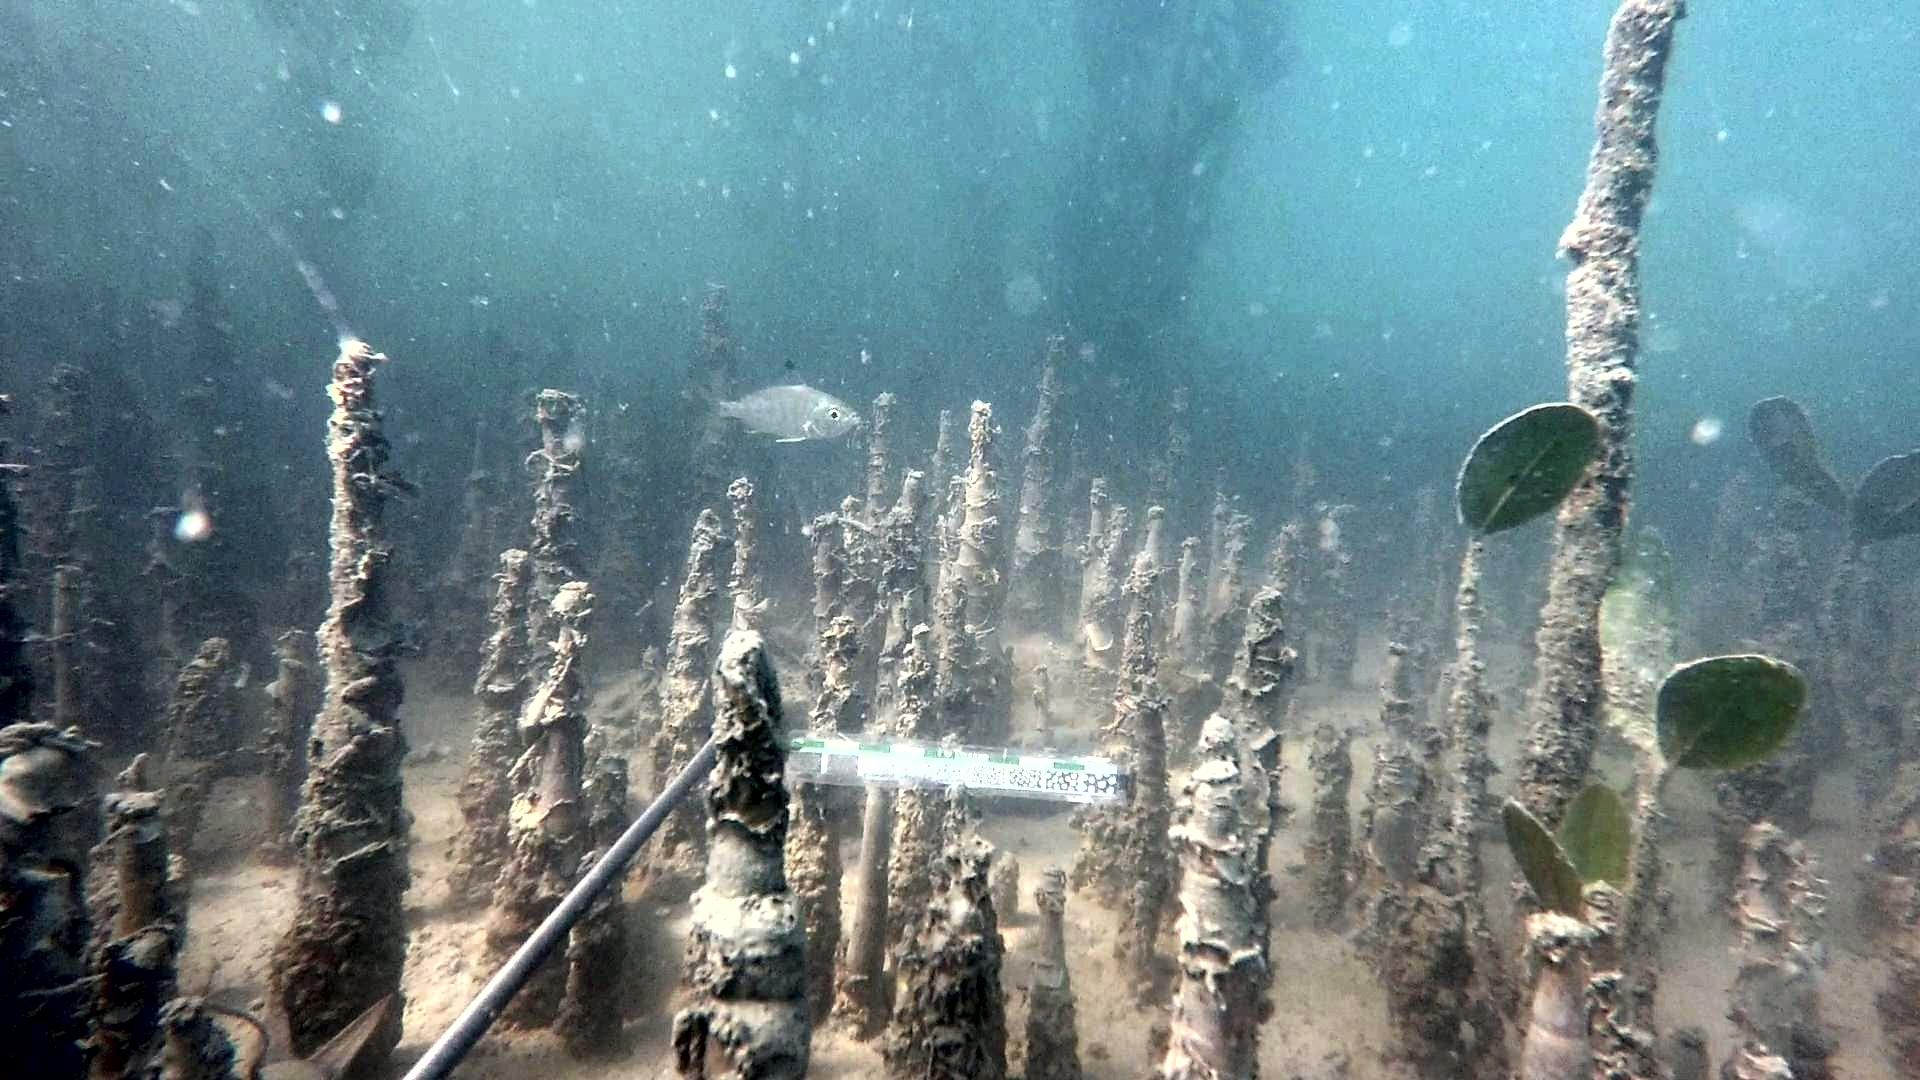gerres: (692, 357, 862, 444)
